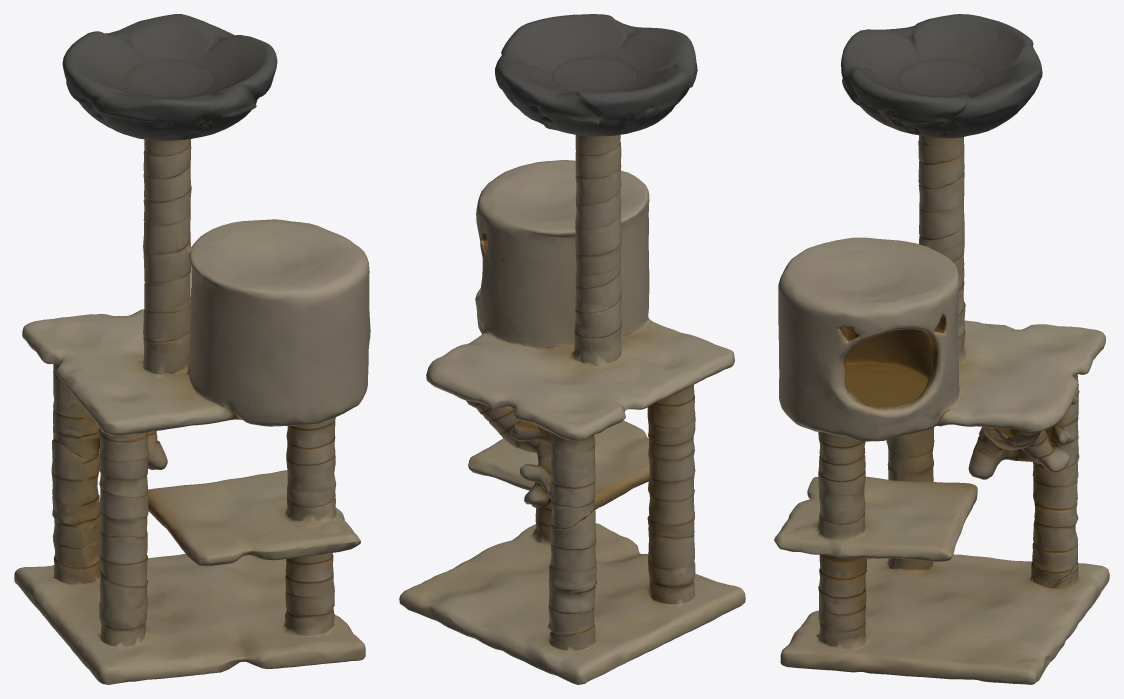
Rendered from cat-tree-generic.glb.
The picture shows the model from 3 angles, left to right: view 1: azimuth 30°, elevation 25°; view 2: azimuth 150°, elevation 25°; view 3: azimuth 270°, elevation 25°; orthographic projection. The views are drawn at different scales.
Parts seen in each view (by area): view 1: tripo_node_2f65524c-b3da-47f2-b5cf-b56ba2c69221; view 2: tripo_node_2f65524c-b3da-47f2-b5cf-b56ba2c69221; view 3: tripo_node_2f65524c-b3da-47f2-b5cf-b56ba2c69221.
Part boxes in pixels (box(x1,y1,x2,y2)): tripo_node_2f65524c-b3da-47f2-b5cf-b56ba2c69221: box(14, 14, 370, 684); tripo_node_2f65524c-b3da-47f2-b5cf-b56ba2c69221: box(399, 14, 745, 684); tripo_node_2f65524c-b3da-47f2-b5cf-b56ba2c69221: box(774, 14, 1109, 684).
Bounding box in the file's own units: 0.4894 × 1 × 0.5438.
Materials: 1 (1 with a texture image).
